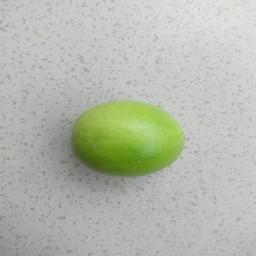Good_lime: (65, 97, 187, 180)
